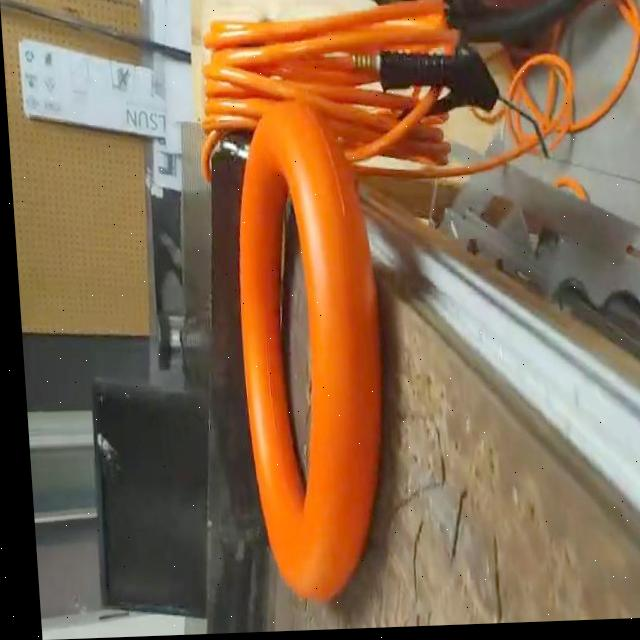note: (219, 101, 401, 609)
